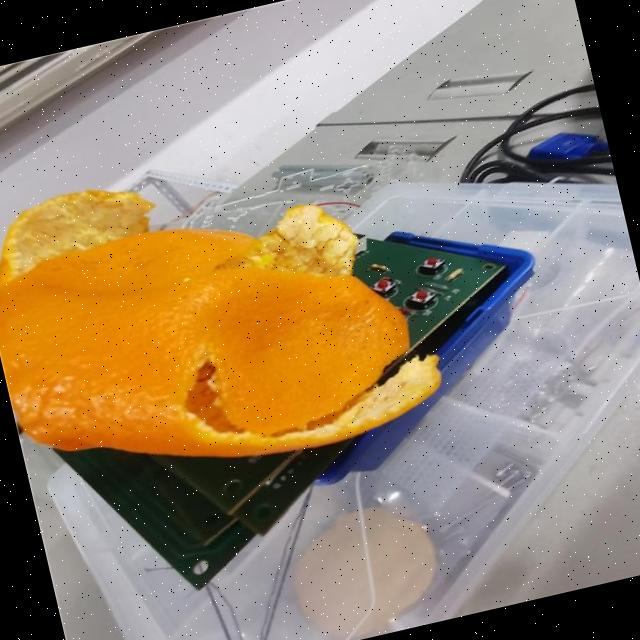orange-peel: (0, 169, 452, 511)
